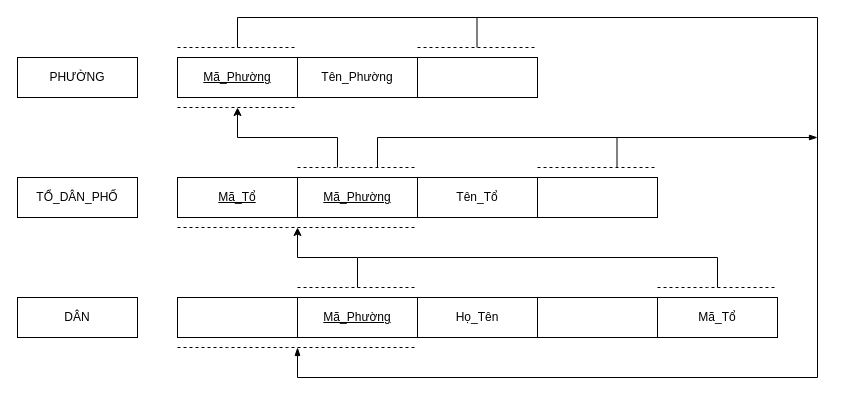
The diagram is 843 pixels wide and 403 high, and some of its shapes have lost their labels. Each missing label, with the centre of its shape:
"Chủ_Tịch_Phường" belongs at [477,77].
"CMND" belongs at [597,317].
"Mã_Dân" belongs at [237,317].
"Tổ_Trưởng" belongs at [597,197].
